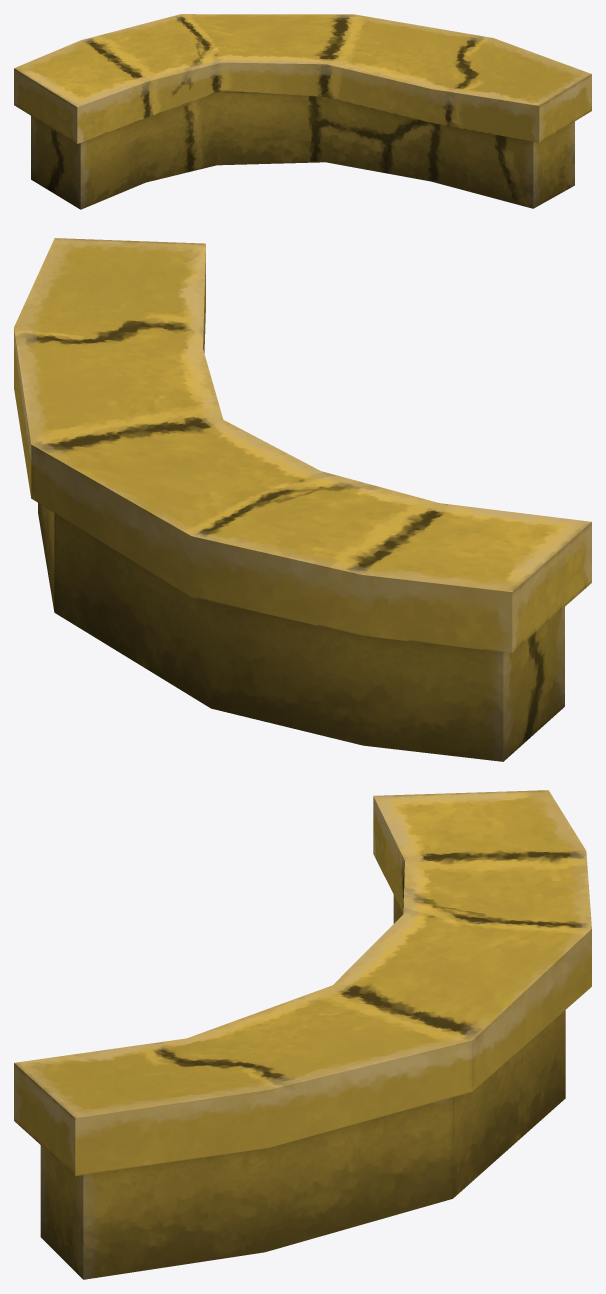
Rendered from Altar_Der.fbx.
3 views of the same model, one above another, from view 1: azimuth 30°, elevation 25°; view 2: azimuth 150°, elevation 25°; view 3: azimuth 270°, elevation 25° (orthographic). The views are drawn at different scales.
Visible parts, largest first — view 1: Altar_Der; view 2: Altar_Der; view 3: Altar_Der.
Boxes of the visible parts, x1=… form: Altar_Der: x1=14, y1=14, x2=591, y2=209; Altar_Der: x1=14, y1=238, x2=591, y2=761; Altar_Der: x1=14, y1=790, x2=591, y2=1279.
Size of the model in its own units: 205 by 50.35 by 153.
